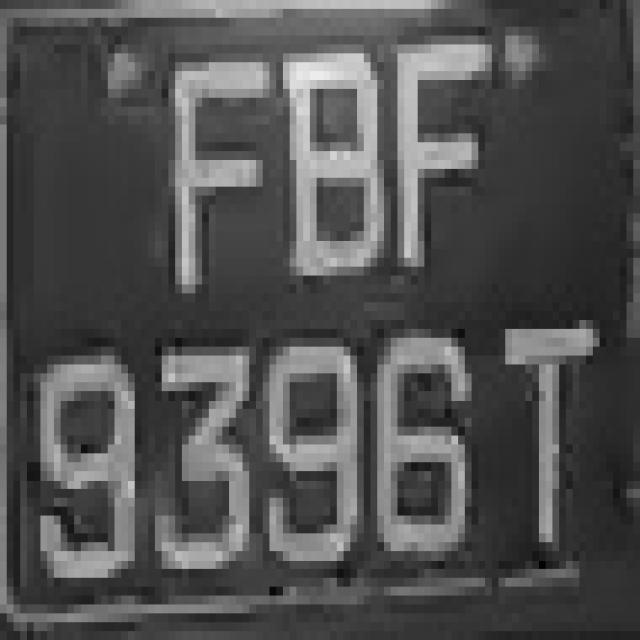3: (135, 329, 256, 578)
6: (364, 293, 478, 569)
9: (249, 293, 371, 587), (20, 320, 142, 613)
B: (276, 36, 398, 302)
F: (378, 44, 506, 284), (155, 36, 263, 311)
T: (472, 284, 600, 578)
